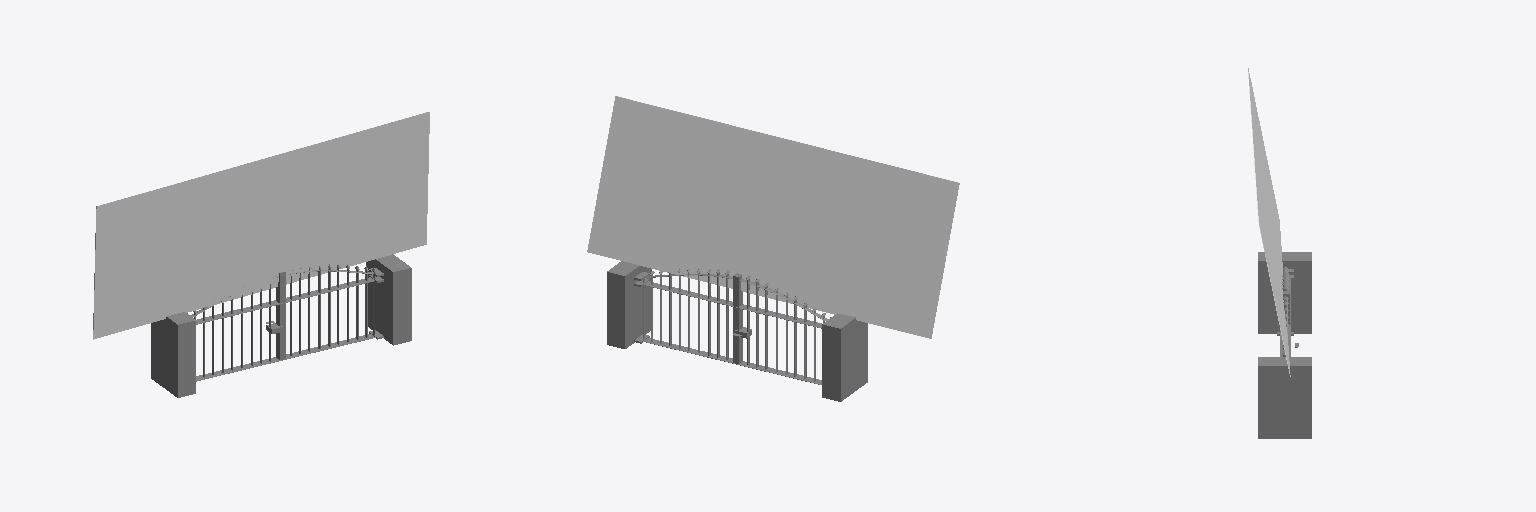
File: puerta_previo.obj
3 views of the same model, side by side, from view 1: azimuth 30°, elevation 25°; view 2: azimuth 150°, elevation 25°; view 3: azimuth 270°, elevation 25° (orthographic).
Visible parts, largest first — view 1: Box001, Nullo1_Nullo_12_Nullo_13_Cubo_13; view 2: Box001, Nullo_21_Nullo6_Nullo_3_Nullo_1_Cubo_19, Nullo1_Nullo_12_Nullo_13_Cubo_13, door_1_Cubo_21; view 3: Box001, Nullo1_Nullo_12_Nullo_13_Cubo_13, Nullo_21_Nullo6_Nullo_3_Nullo_1_Cubo_19, Nullo1_Nullo_12_Nullo2_Cubo7.
Part boxes in pixels (x1,y1,x2,y2): Box001: (93, 111, 429, 339); Nullo1_Nullo_12_Nullo_13_Cubo_13: (367, 254, 411, 280); Box001: (587, 96, 959, 338); Nullo_21_Nullo6_Nullo_3_Nullo_1_Cubo_19: (822, 313, 861, 337); Nullo1_Nullo_12_Nullo_13_Cubo_13: (607, 261, 647, 284); door_1_Cubo_21: (736, 274, 742, 363); Box001: (1248, 68, 1290, 376); Nullo1_Nullo_12_Nullo_13_Cubo_13: (1258, 357, 1311, 374); Nullo_21_Nullo6_Nullo_3_Nullo_1_Cubo_19: (1258, 252, 1311, 269); Nullo1_Nullo_12_Nullo2_Cubo7: (1258, 393, 1311, 402).
Size of the model in its own units: 146 by 89.15 by 23.28.